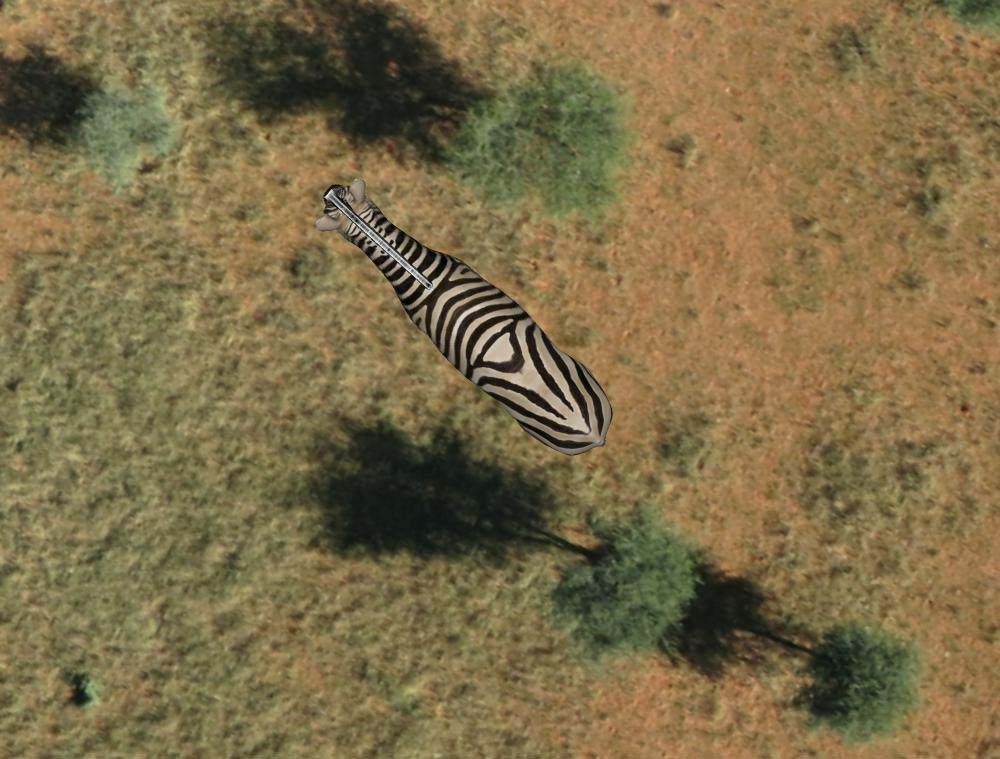zebra: (313, 170, 620, 456)
